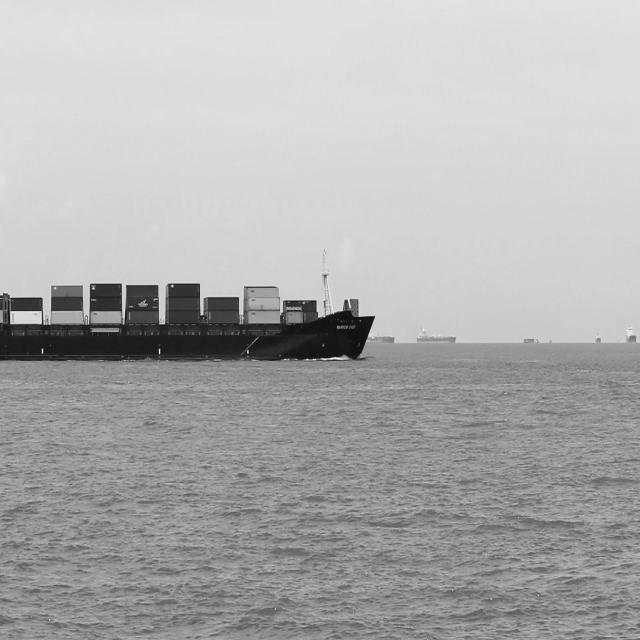ship: (0, 243, 383, 362), (356, 316, 398, 344), (415, 322, 462, 344), (622, 319, 640, 347), (522, 328, 542, 351), (593, 325, 607, 345)
